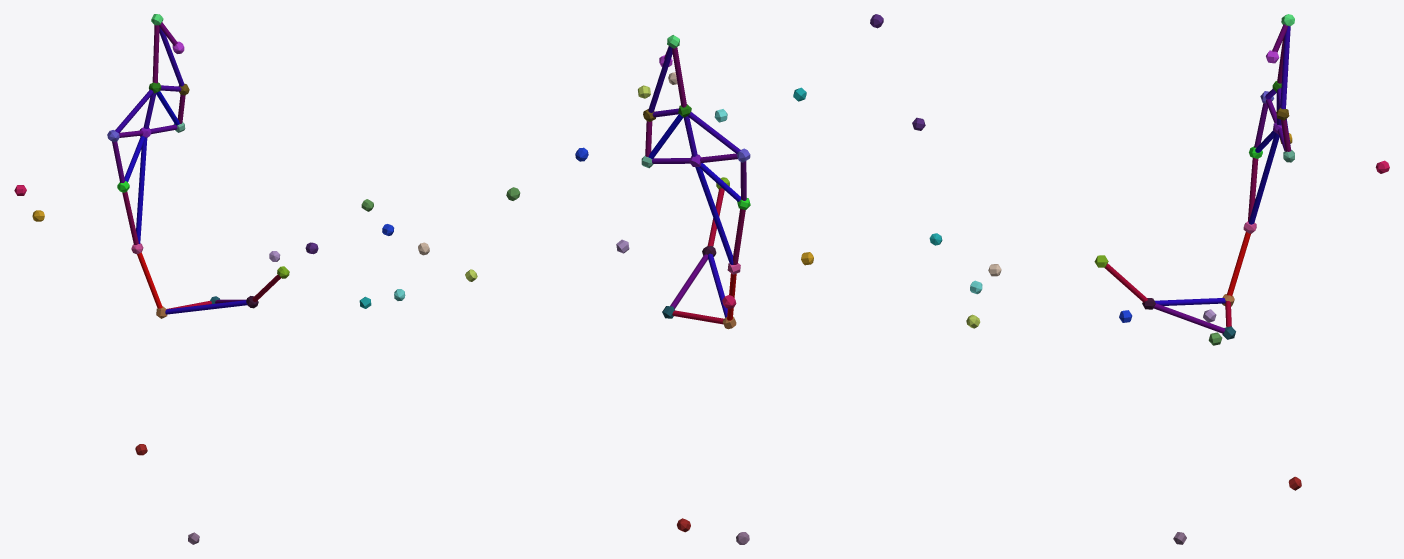
The model's file is fg-00070-skel.obj.
The picture shows the model from 3 angles, left to right: view 1: azimuth 30°, elevation 25°; view 2: azimuth 150°, elevation 25°; view 3: azimuth 270°, elevation 25°; orthographic projection. The views are drawn at different scales.
Bounding box in the file's own units: 0.2718 × 0.4152 × 0.3345.
